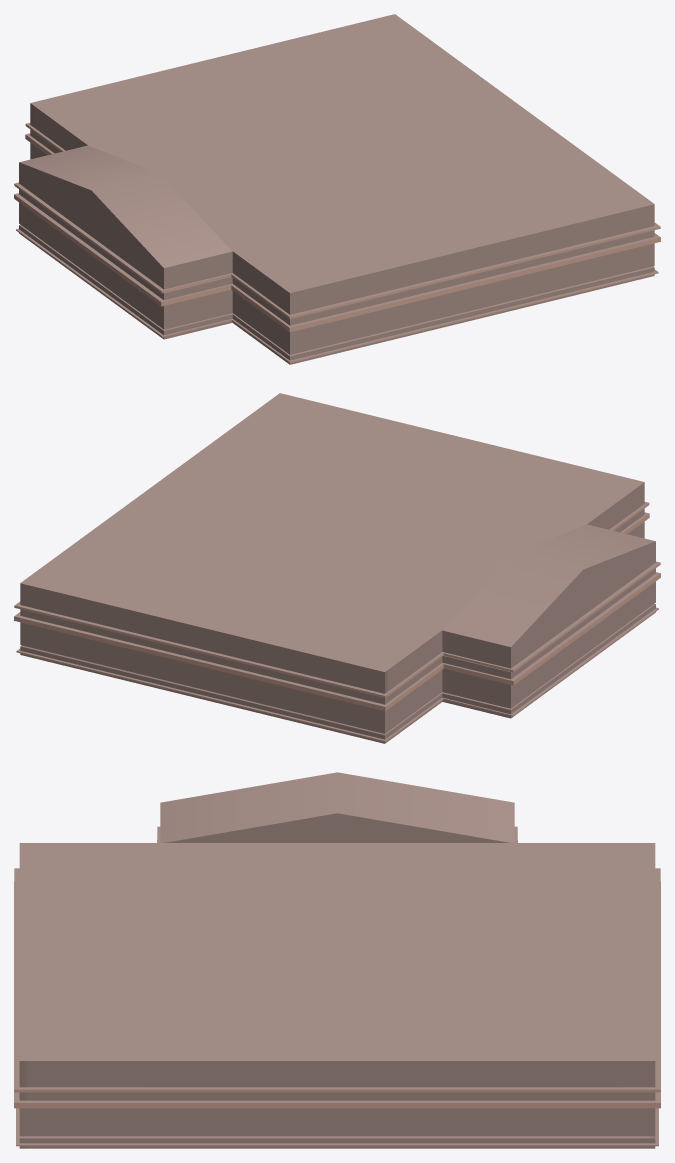
Rendered from bank_top.fbx.
3 views of the same model, one above another, from view 1: azimuth 30°, elevation 25°; view 2: azimuth 150°, elevation 25°; view 3: azimuth 270°, elevation 25° (orthographic). The views are drawn at different scales.
Parts seen in each view (by area): view 1: bank_top; view 2: bank_top; view 3: bank_top.
Part boxes in pixels (x1,y1,x2,y2): bank_top: [14, 14, 660, 364]; bank_top: [14, 393, 660, 743]; bank_top: [14, 772, 660, 1148].
Bounding box in the file's own units: 64.96 × 13.52 × 67.45.
